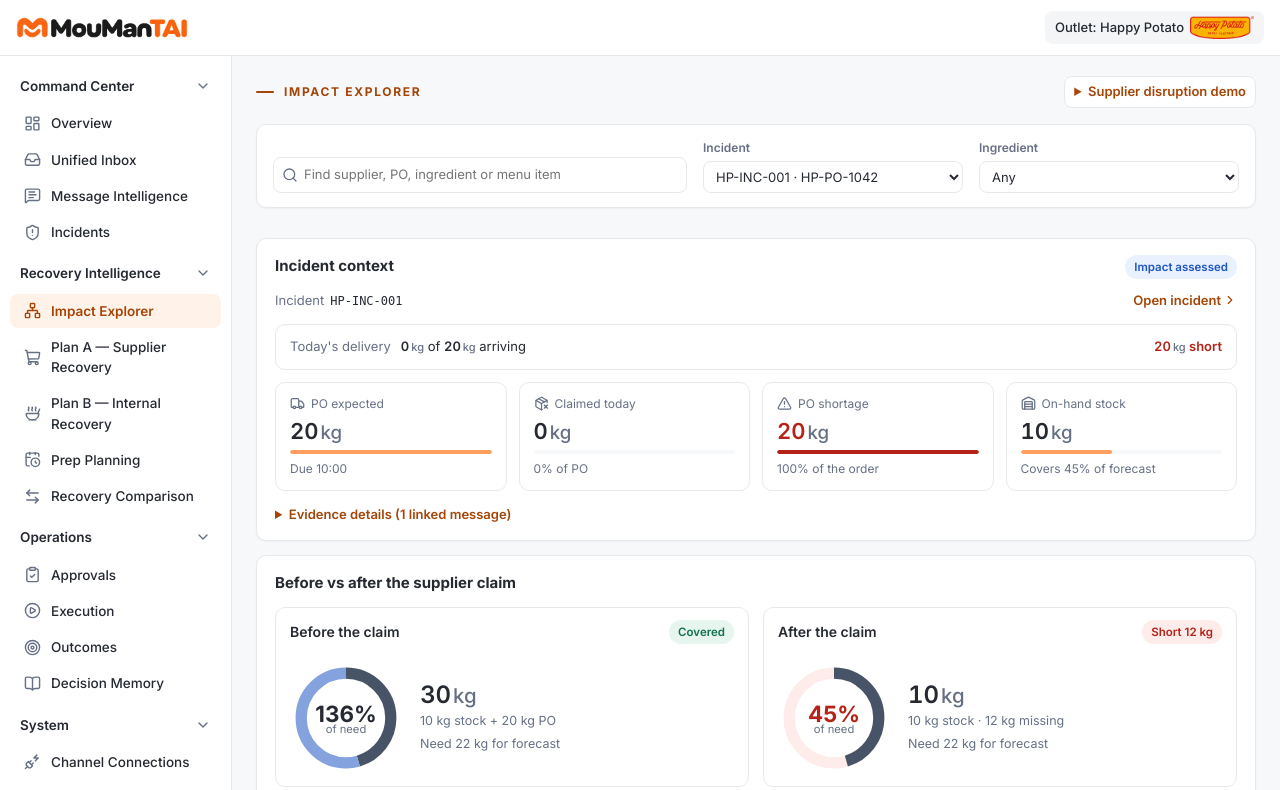
it: Impact Explorer page › renders canonical before/after and inventory values
Click the button with aria-label "Show details: Before the claim" at (345,632), box [275, 607, 749, 787]
(page scrolled)
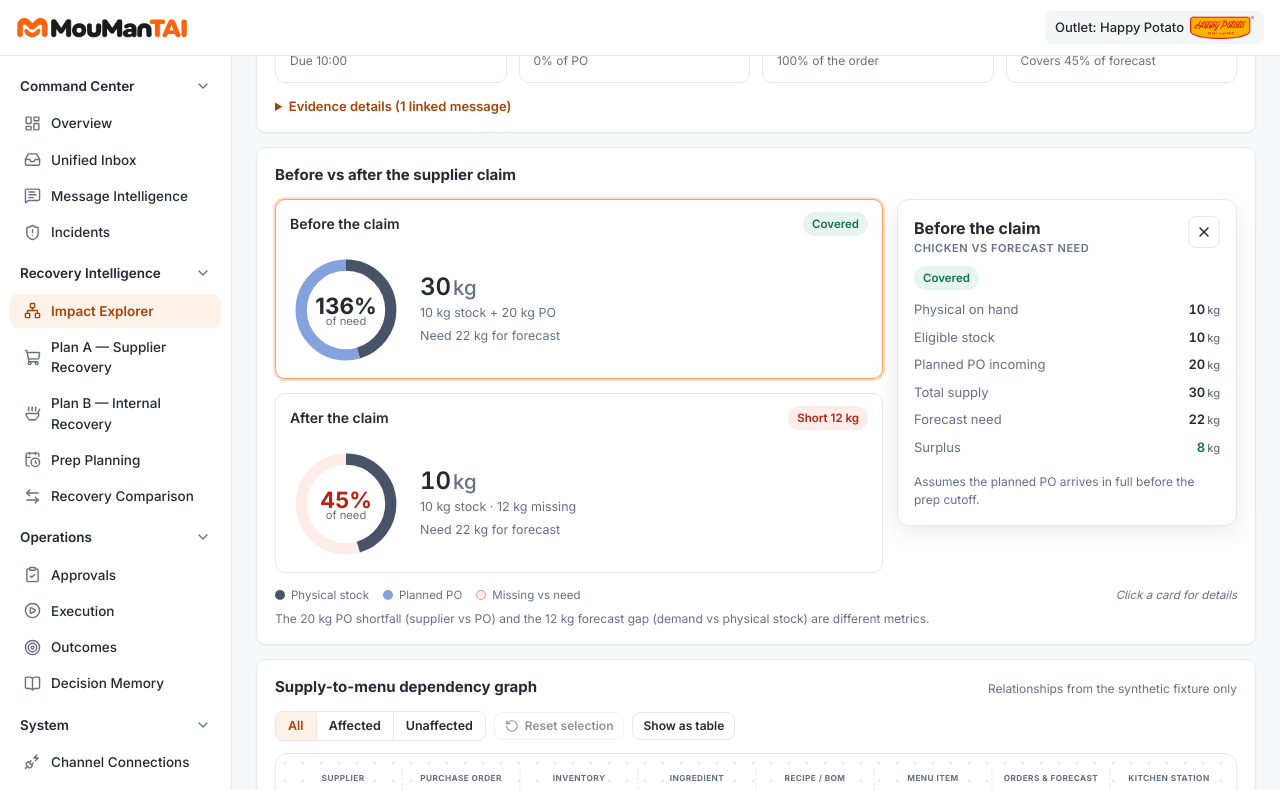
expect the 1st element showing "30kg" is shown: met, box [420, 272, 477, 301]
expect the element showing "10kg" below "Open incident" is shown: met, box [1020, 10, 1073, 36]
Click the button with aria-label "Show details: After the claim" at (339,418), box [275, 393, 883, 573]
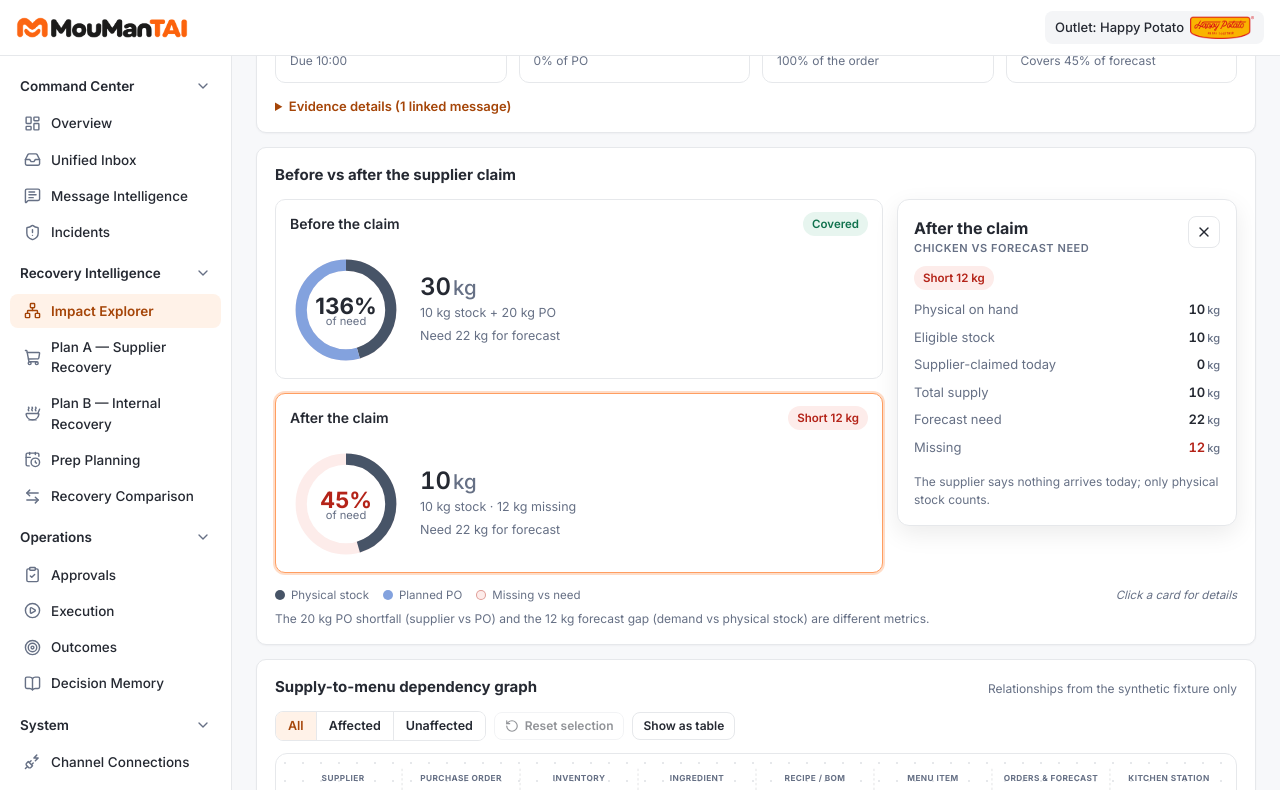
expect the element showing "10kg" below "Open incident" is shown: met, box [1020, 10, 1073, 36]
expect the element showing "22kg" is shown: met, box [1188, 411, 1220, 427]
expect the element showing "12kg" is shown: met, box [1188, 439, 1220, 455]
